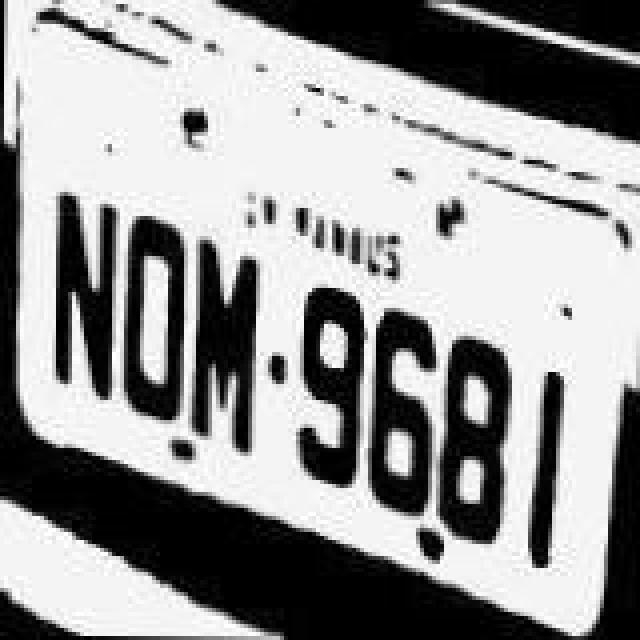1: (514, 354, 586, 582)
6: (354, 306, 442, 522)
8: (436, 324, 520, 544)
9: (290, 282, 370, 502)
M: (186, 232, 270, 460)
N: (40, 184, 128, 408)
O: (116, 208, 196, 428)
